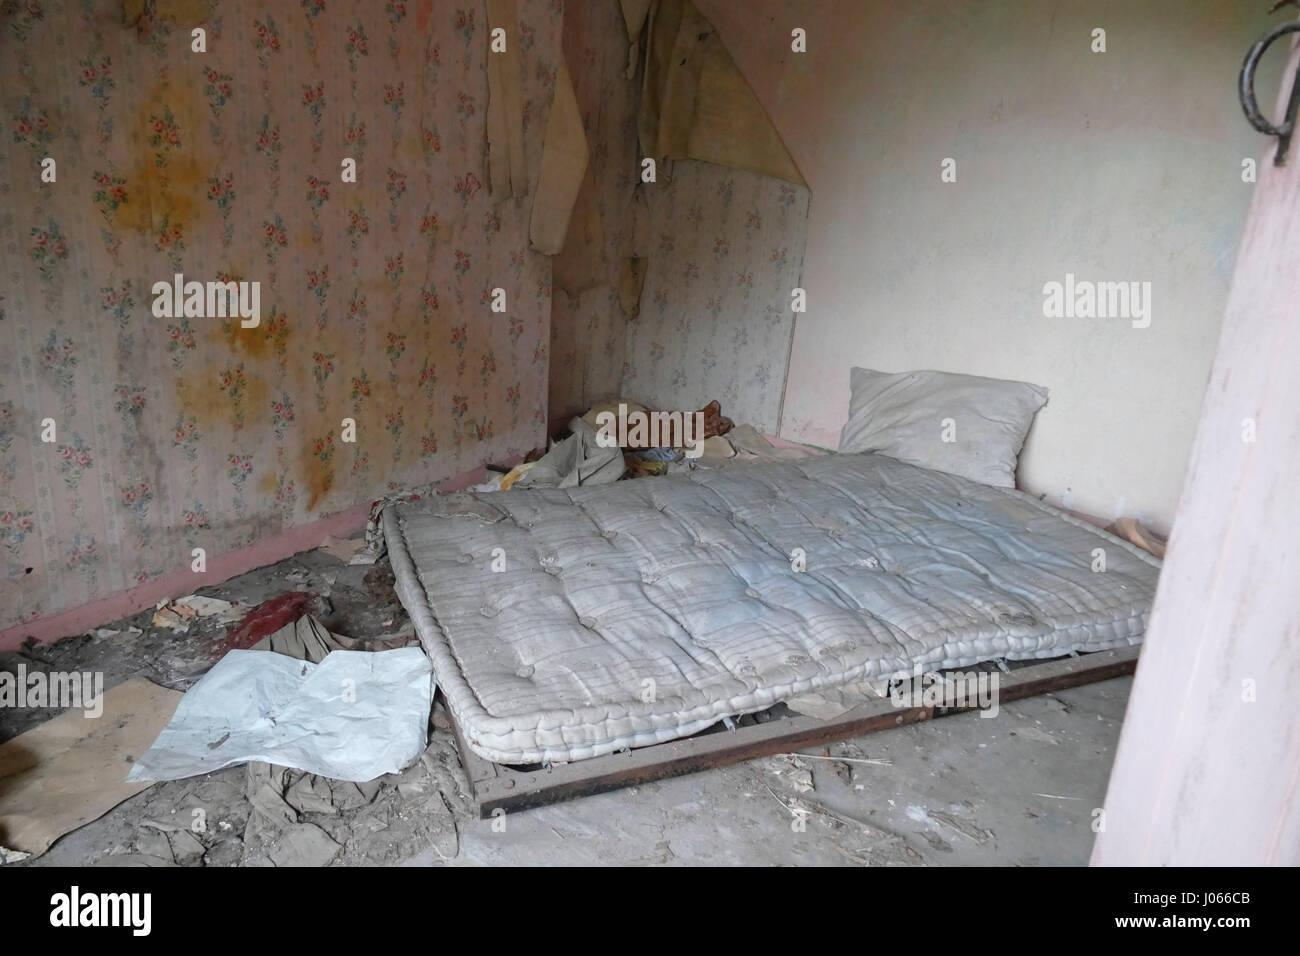Bed-Mattress: (340, 441, 1194, 781)
